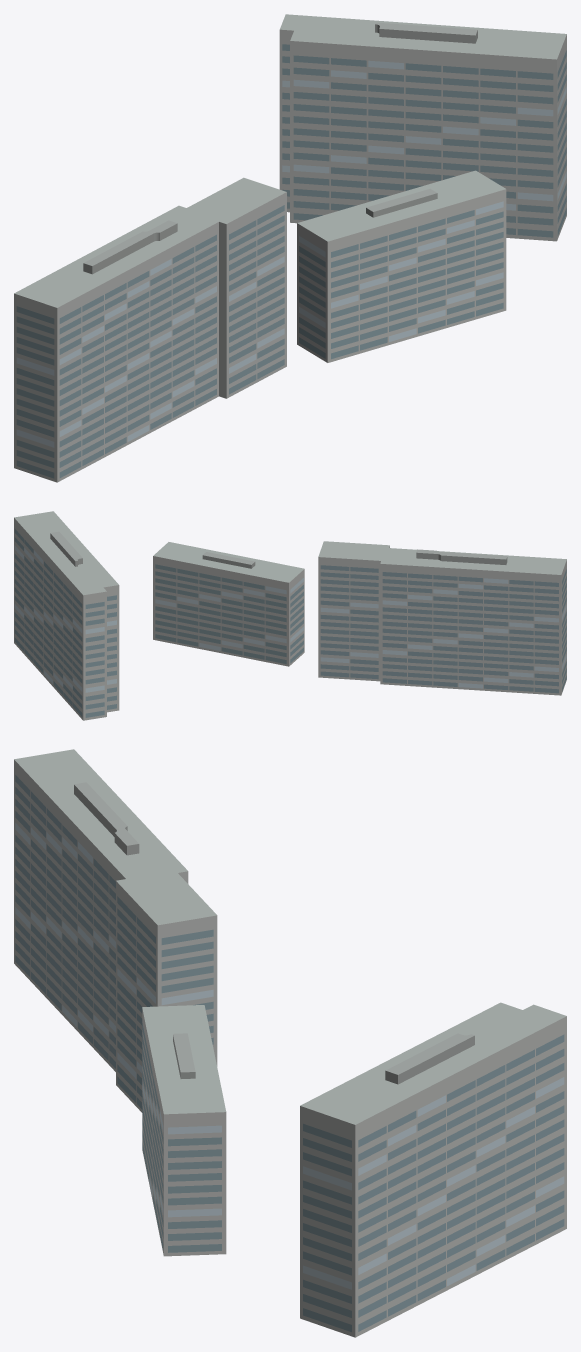
Rendered from apt-a12104001.glb.
3 renders of one model, top to bottom at view 1: azimuth 30°, elevation 25°; view 2: azimuth 150°, elevation 25°; view 3: azimuth 270°, elevation 25°, orthographic. The views are drawn at different scales.
Visible parts, largest first — view 1: apt-a12104001; view 2: apt-a12104001; view 3: apt-a12104001.
Boxes of the visible parts, <box> form: apt-a12104001: <box>14,14,566,482</box>; apt-a12104001: <box>14,511,566,720</box>; apt-a12104001: <box>14,749,566,1337</box>.
Bounding box in the file's own units: 177 × 47.81 × 108.
